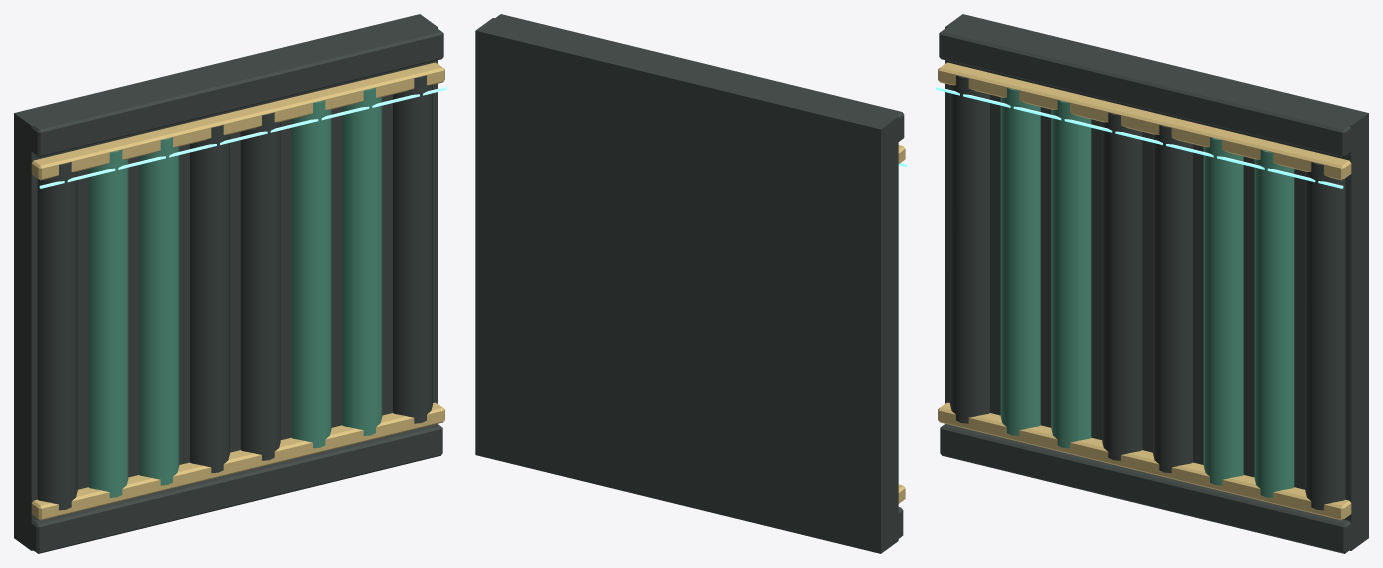
Rendered from wall_ex_marble.glb.
The picture shows the model from 3 angles, left to right: view 1: azimuth 30°, elevation 25°; view 2: azimuth 150°, elevation 25°; view 3: azimuth 330°, elevation 25°; orthographic projection.
Visible parts, largest first — view 1: wall_ex_marble; view 2: wall_ex_marble; view 3: wall_ex_marble.
Part boxes in pixels (x1,y1,x2,y2): wall_ex_marble: (14,14,446,553); wall_ex_marble: (475,14,907,553); wall_ex_marble: (936,14,1368,553).
Bounding box in the file's own units: 4 × 4 × 0.46.
